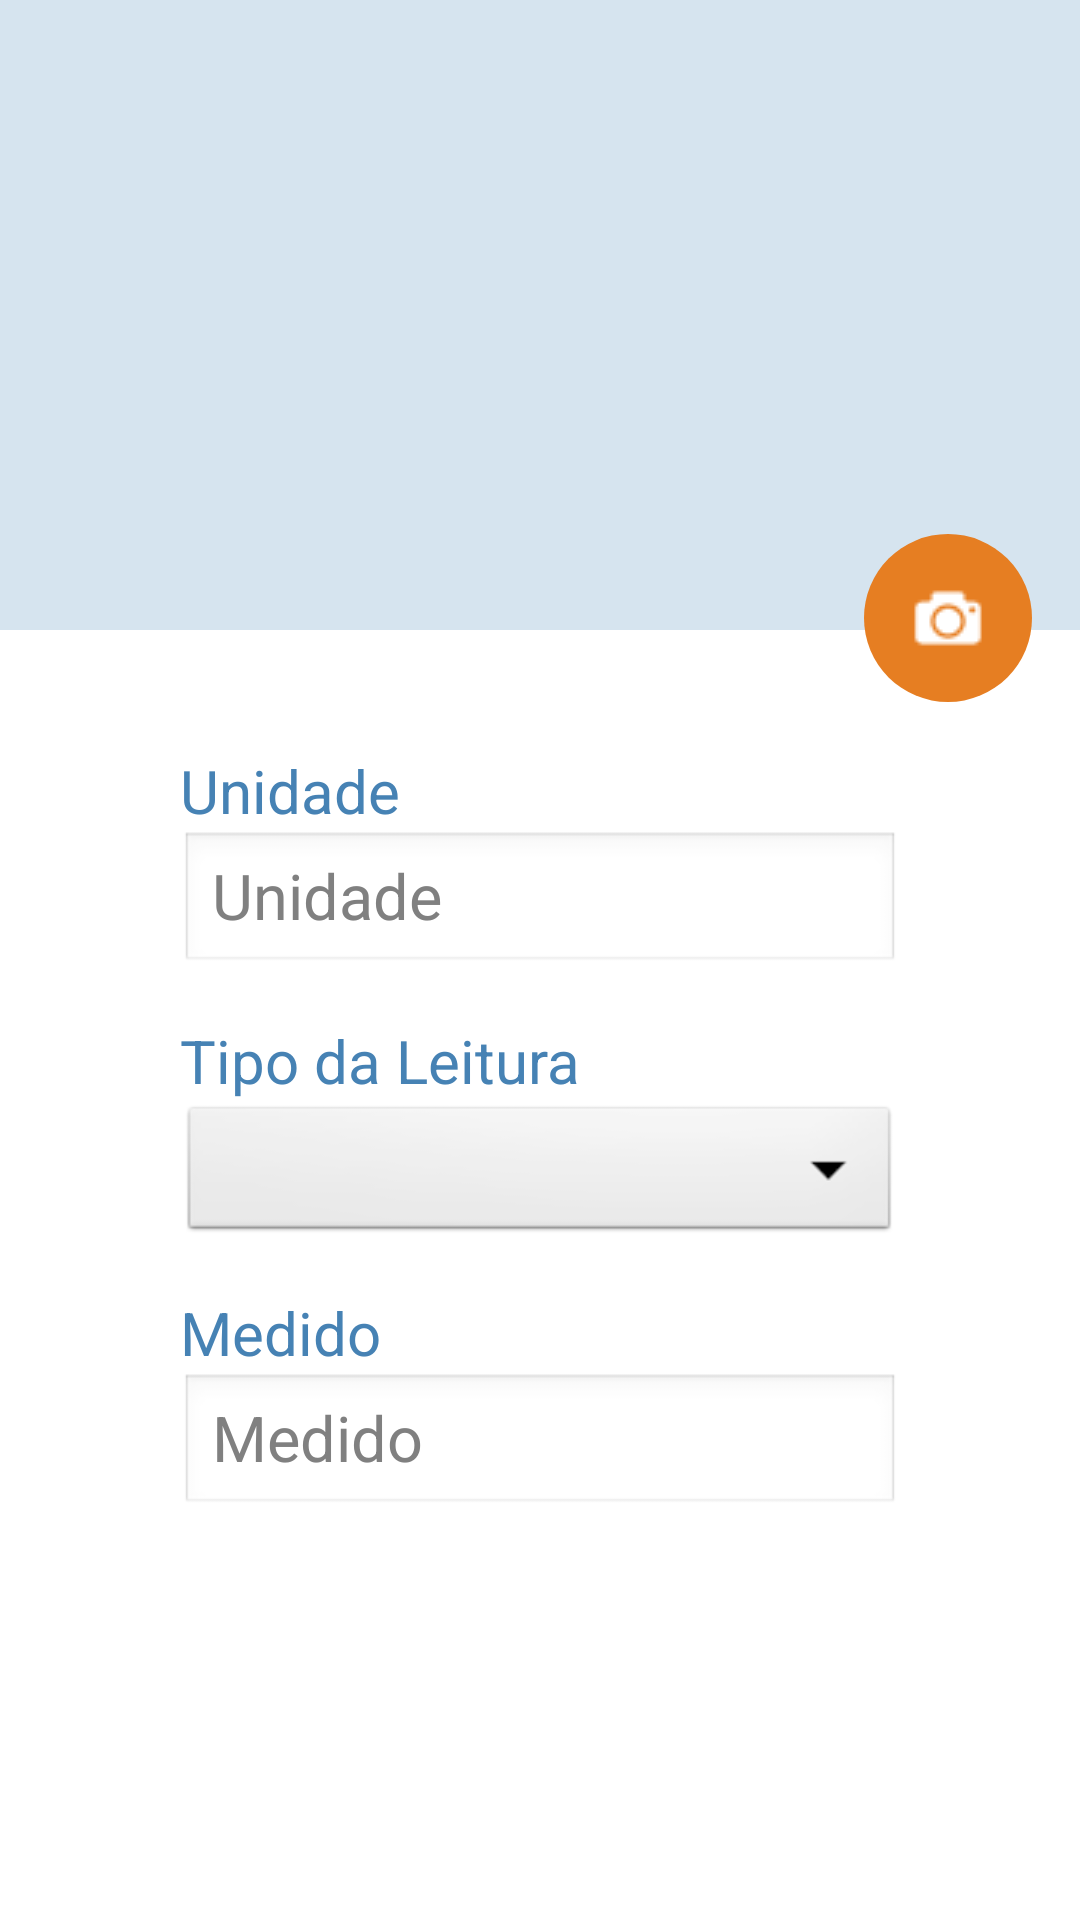

Icon click points for this 1080x1920 phone screenshot, format point (x, y):
foto branco: point (948, 618)
